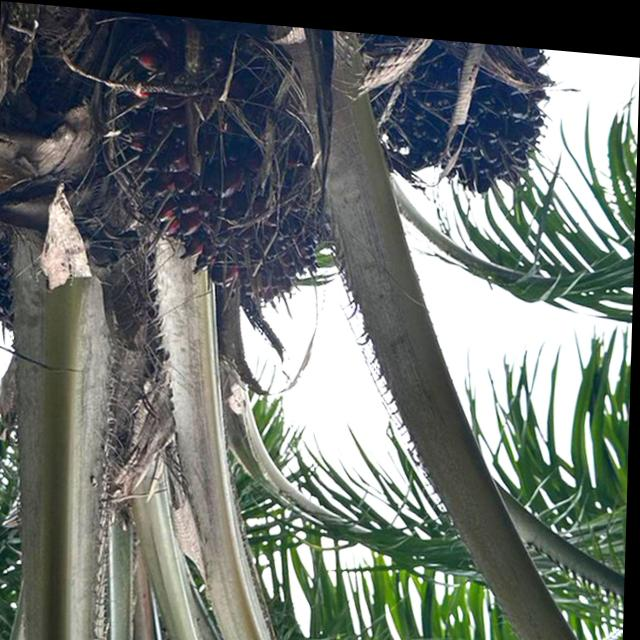ripe: (138, 64, 328, 313), (398, 34, 548, 197)
